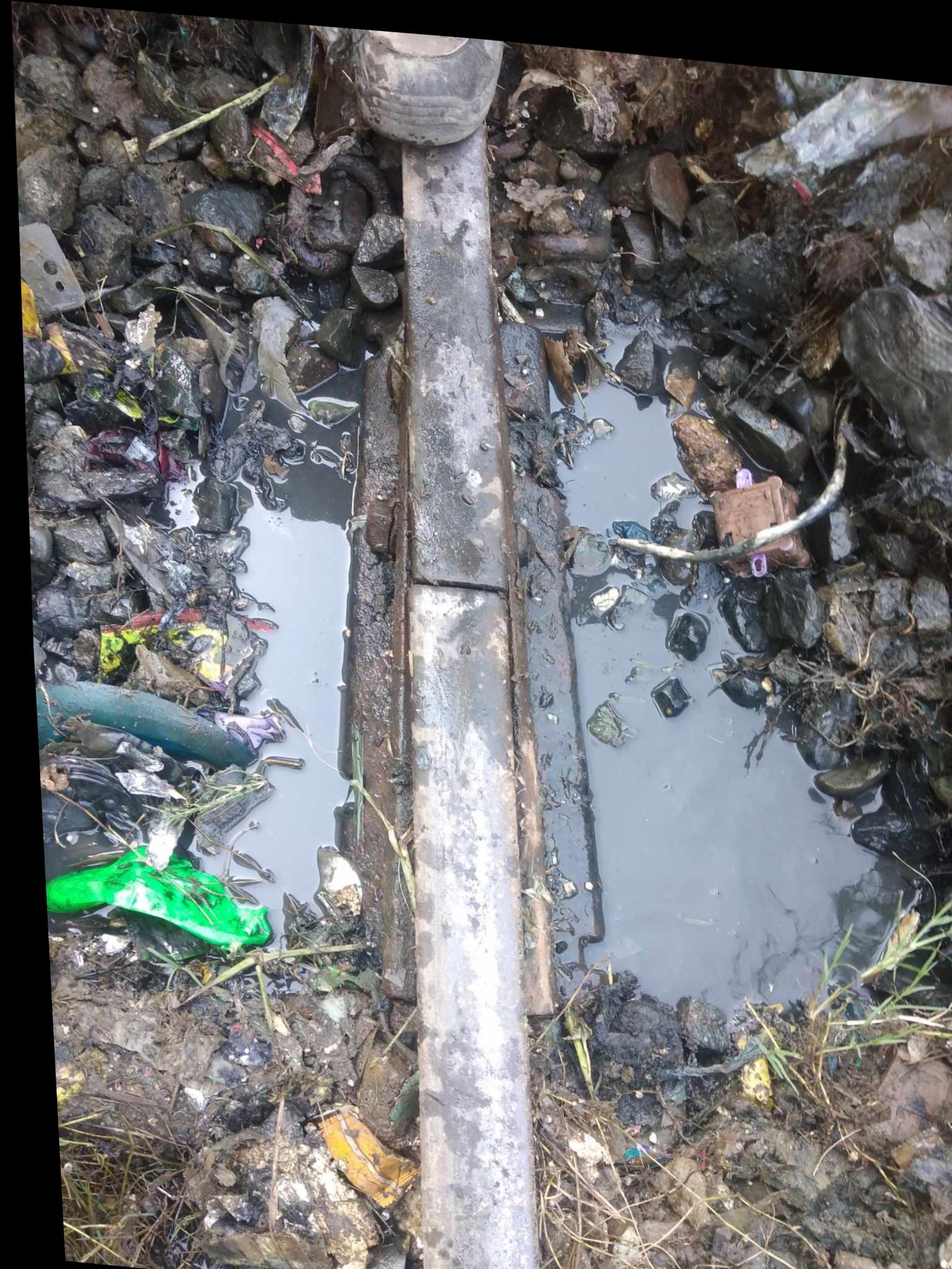person: (389, 508, 529, 653)
